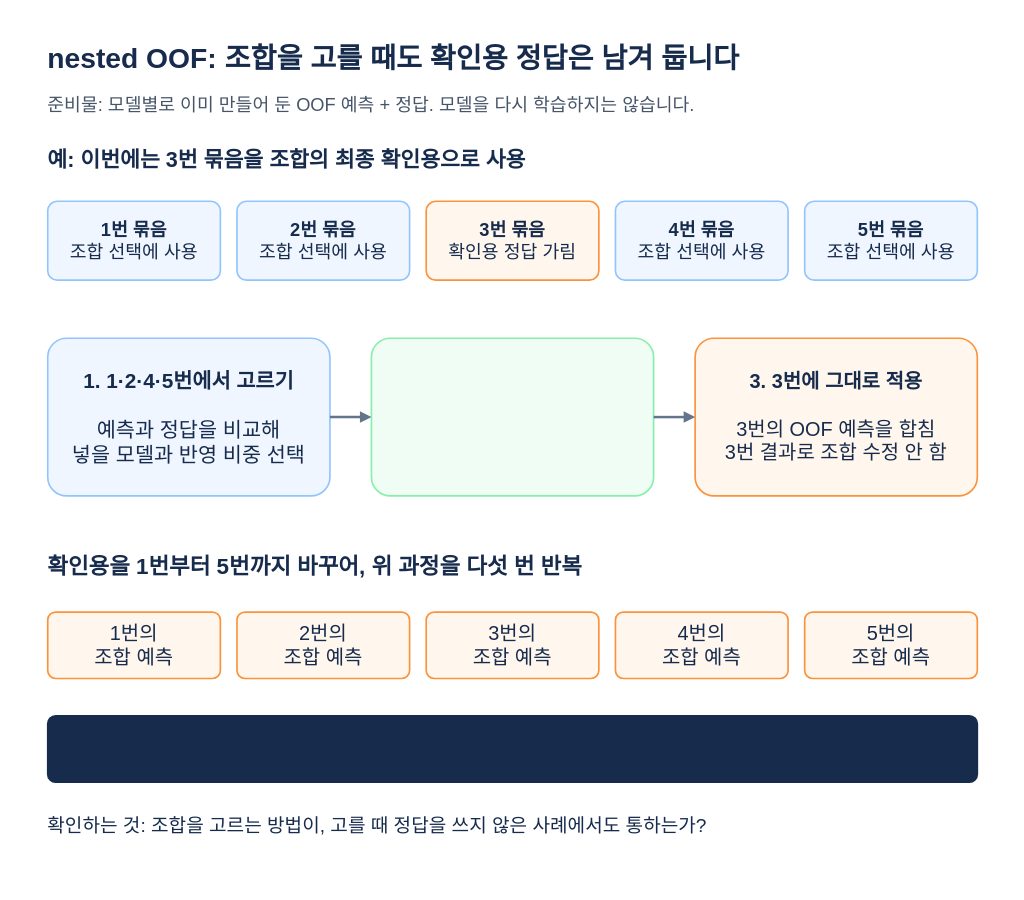
Some shapes in this 1024 by 900 pixel diagram are drawn without their labels. The centre of each missing label's shape, as x and y in pixels:
2. 조합 확정 예: A 60% + B 40% 비중은 설명용 예시: pixel 512 416
다섯 조각을 모아 AUC로 채점 = nested OOF AUC: pixel 512 749
